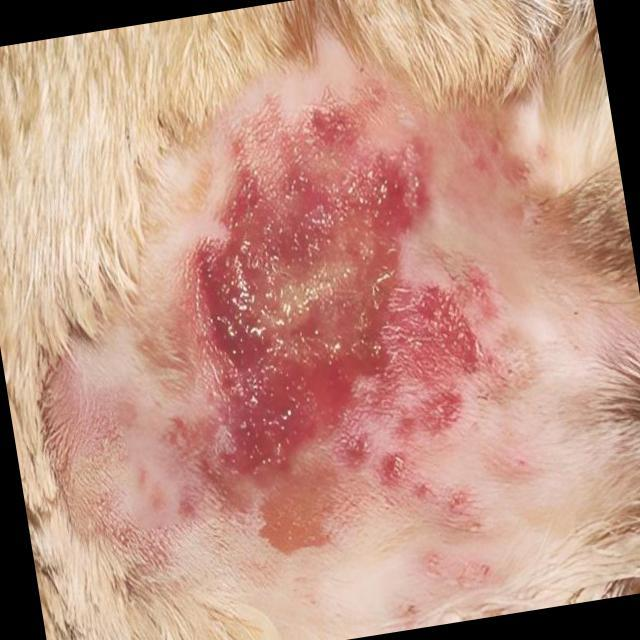allergic dermatitis: (132, 94, 482, 558)
